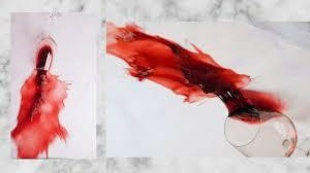wine: (108, 21, 205, 88), (167, 64, 275, 113), (12, 71, 70, 154)
